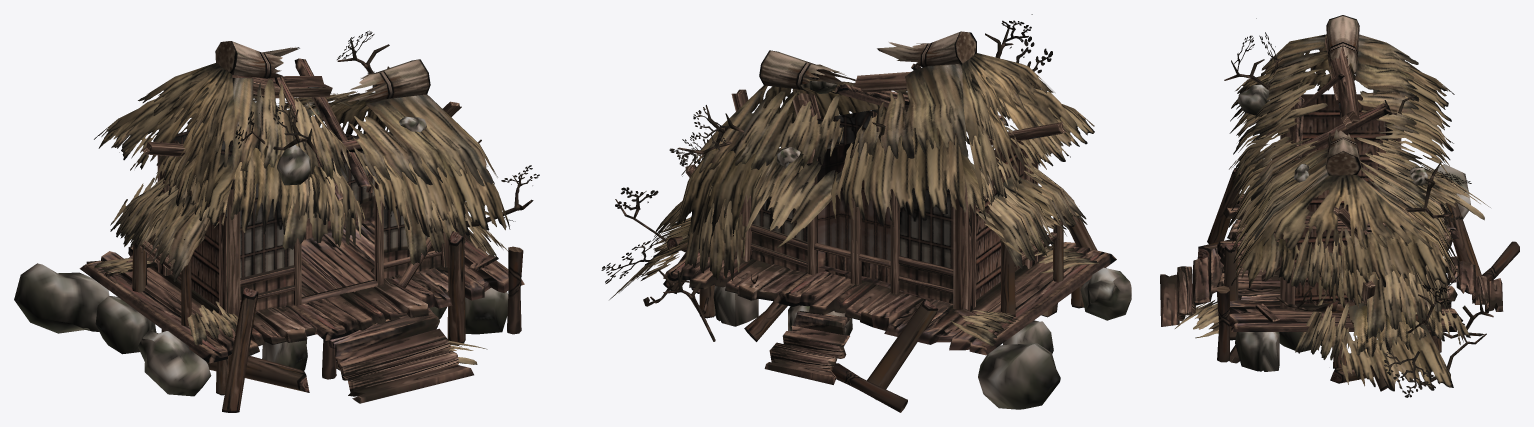
File: PRP_EntHouseForest.FBX
The picture shows the model from 3 angles, left to right: view 1: azimuth 30°, elevation 25°; view 2: azimuth 150°, elevation 25°; view 3: azimuth 270°, elevation 25°; orthographic projection. The views are drawn at different scales.
Parts seen in each view (by area): view 1: PRP_EntHouseForest; view 2: PRP_EntHouseForest; view 3: PRP_EntHouseForest.
Boxes of the visible parts, x1,y1,x2,y2 form: PRP_EntHouseForest: (14, 30, 539, 412); PRP_EntHouseForest: (601, 14, 1131, 412); PRP_EntHouseForest: (1160, 15, 1519, 397).
Size of the model in its own units: 1188 by 759 by 879.
